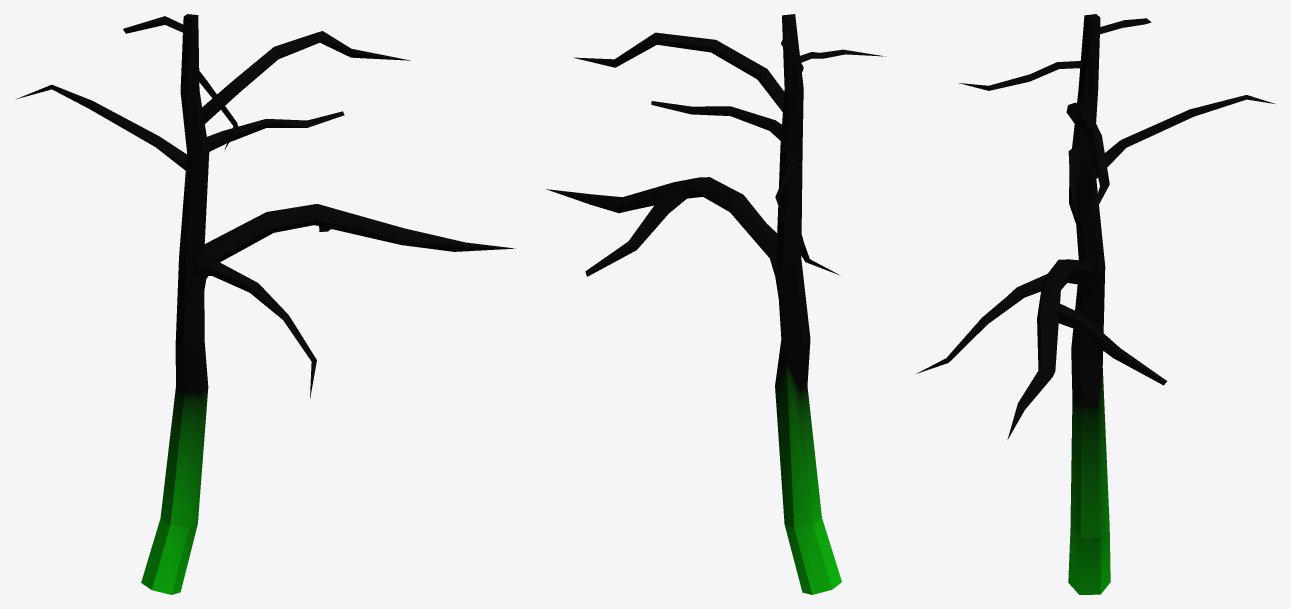
The model's file is SM_Collision_TheGreetingPine.fbx.
3 renders of one model, left to right at view 1: azimuth 30°, elevation 25°; view 2: azimuth 150°, elevation 25°; view 3: azimuth 270°, elevation 25°, orthographic. The views are drawn at different scales.
Parts seen in each view (by area): view 1: SM_Collision_TheGreetingPine; view 2: SM_Collision_TheGreetingPine; view 3: SM_Collision_TheGreetingPine.
Part boxes in pixels (left/top/right/bottom): SM_Collision_TheGreetingPine: left=16, top=14, right=515, bottom=594; SM_Collision_TheGreetingPine: left=546, top=14, right=885, bottom=594; SM_Collision_TheGreetingPine: left=916, top=14, right=1274, bottom=594.
Bounding box in the file's own units: 1086 × 1584 × 885.
